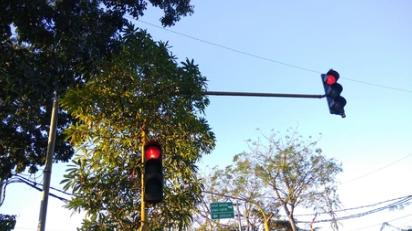red_light: (320, 68, 347, 115), (144, 140, 163, 204)
